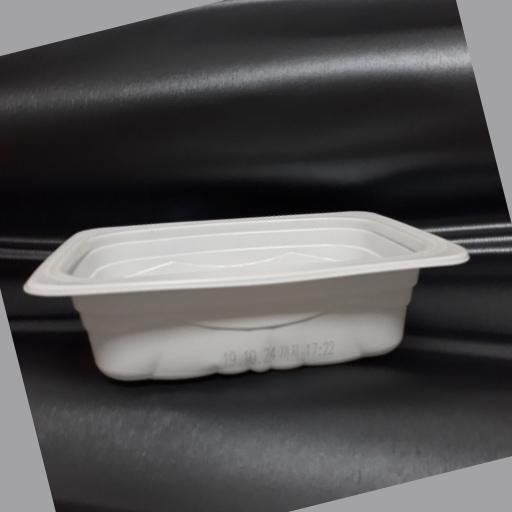Plastic_4: (25, 210, 469, 379)
